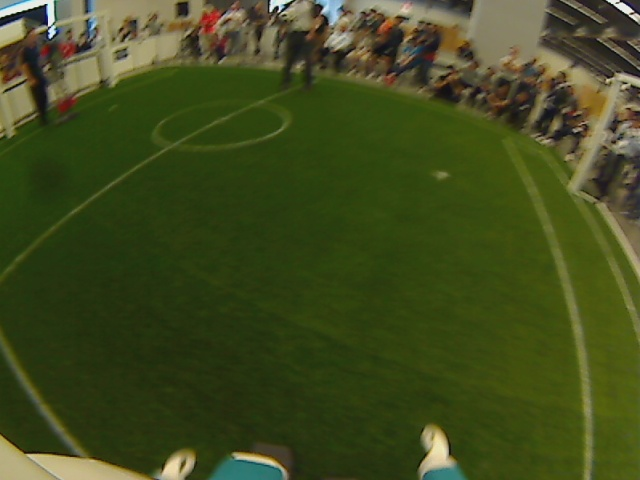goalpost: (557, 170, 587, 201), (99, 75, 128, 101), (1, 124, 23, 146)
robot: (54, 99, 81, 125)
